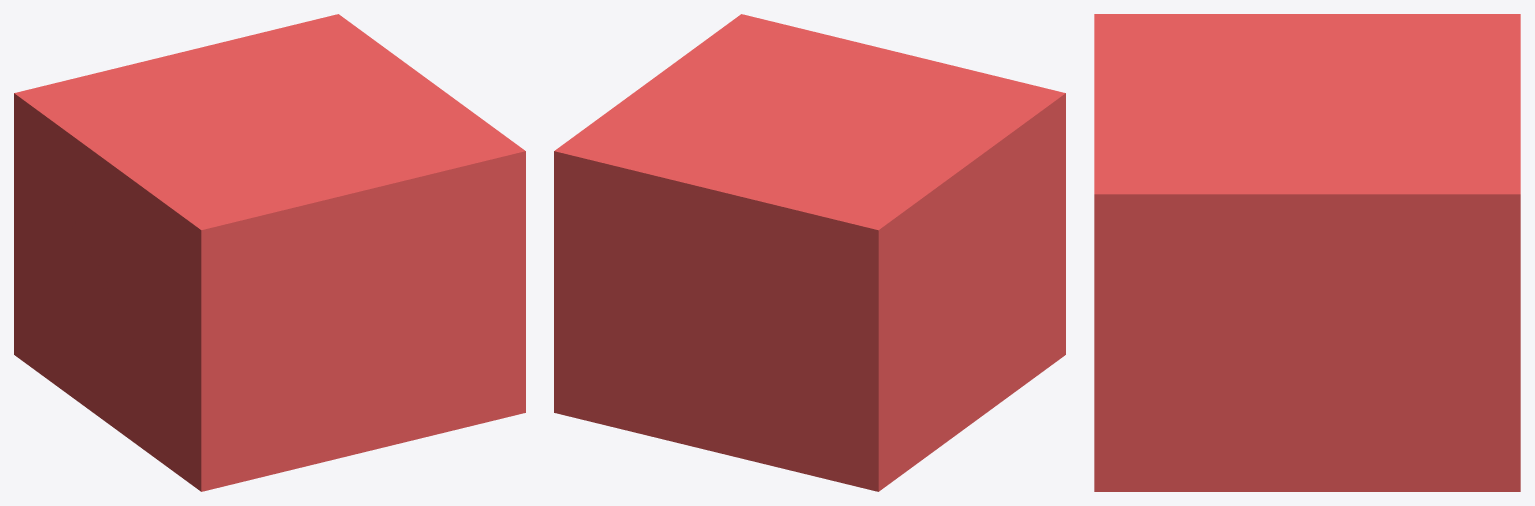
The model's file is practice_A.dae.
3 renders of one model, left to right at view 1: azimuth 30°, elevation 25°; view 2: azimuth 150°, elevation 25°; view 3: azimuth 270°, elevation 25°, orthographic. The views are drawn at different scales.
Visible parts, largest first — view 1: group_0; view 2: group_0; view 3: group_0.
Part boxes in pixels (bbox=[...]): group_0: bbox=[14, 14, 525, 491]; group_0: bbox=[554, 14, 1065, 491]; group_0: bbox=[1094, 14, 1520, 491].
Size of the model in its own units: 48 by 48 by 37.
